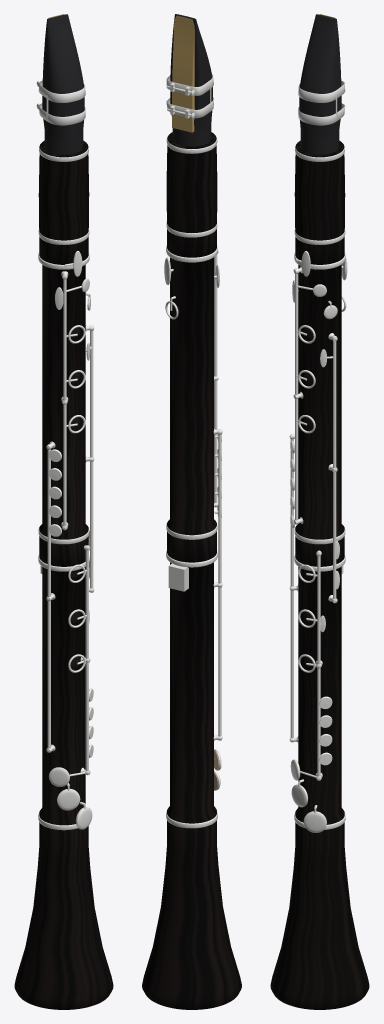
Rendered from clarinet.glb.
3 views of the same model, side by side, from view 1: azimuth 30°, elevation 25°; view 2: azimuth 150°, elevation 25°; view 3: azimuth 330°, elevation 25° (orthographic).
Visible parts, largest first — view 1: Body; view 2: Body; view 3: Body.
Part boxes in pixels (x1,y1,x2,y2): Body: (14, 14, 113, 1009); Body: (142, 14, 241, 1009); Body: (270, 14, 369, 1009).
Size of the model in its own units: 0.066 by 0.712 by 0.066.
6 materials, 1 textured.
